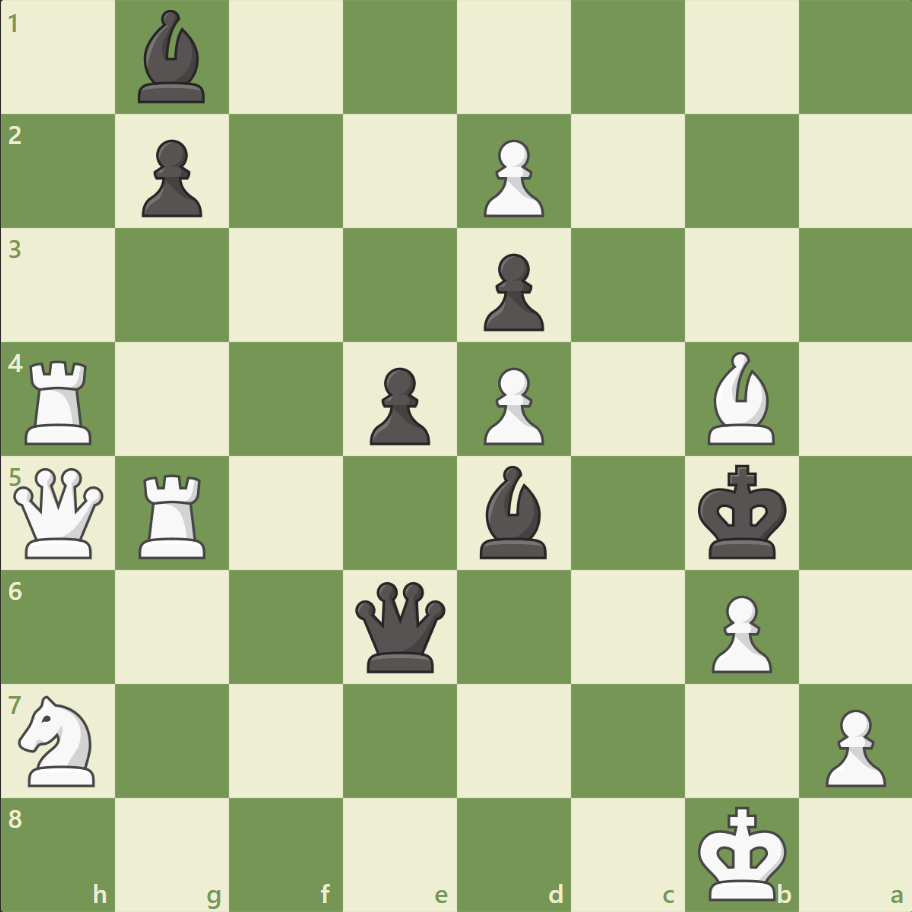B: (698, 347, 782, 449)
K: (692, 798, 792, 906)
N: (11, 688, 108, 791)
P: (701, 586, 776, 677), (474, 359, 549, 450), (474, 132, 549, 223), (815, 700, 889, 791)
Q: (10, 463, 109, 562)
R: (19, 352, 102, 449), (133, 466, 215, 563)
b: (471, 460, 555, 563), (131, 6, 215, 109)
k: (692, 458, 792, 566)
p: (474, 246, 549, 337), (133, 132, 208, 223), (361, 359, 435, 450)
q: (351, 576, 450, 676)
